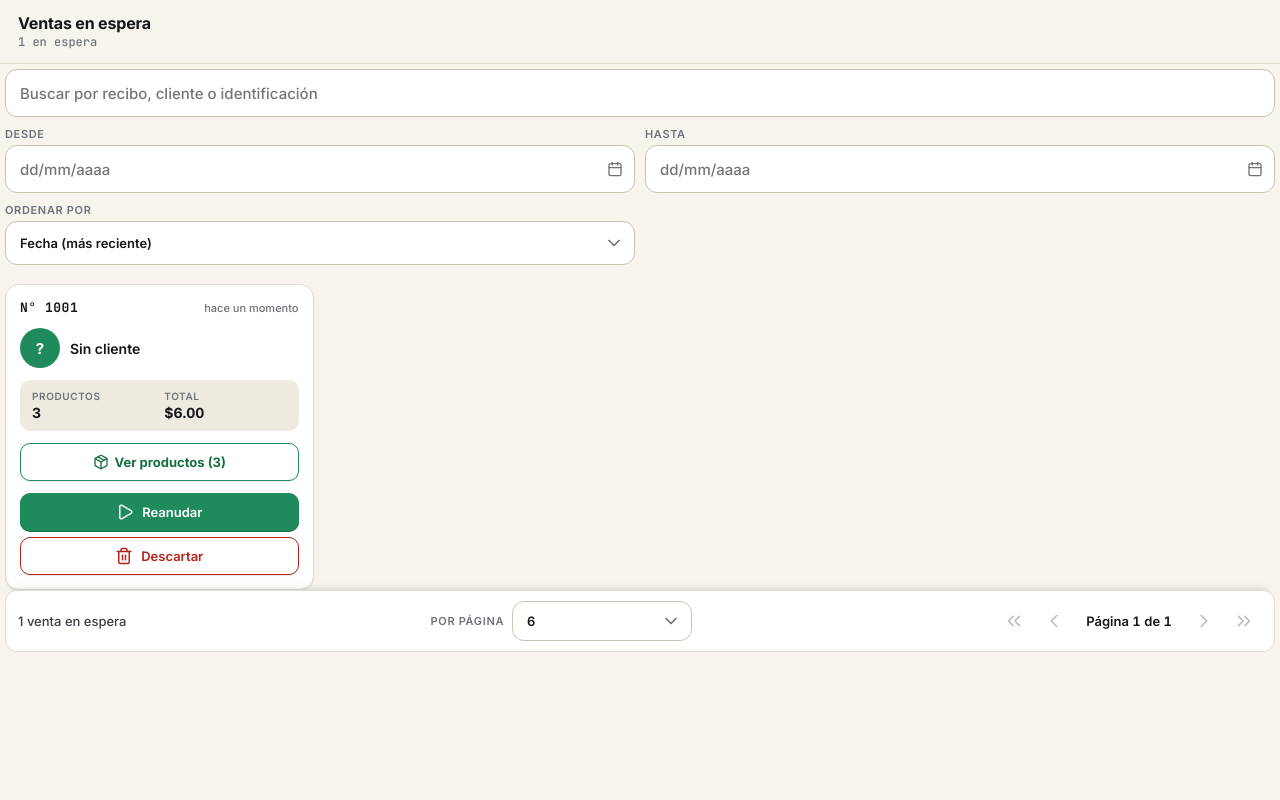
Test: StoredCartsScreen — paused-product PRE-confirm before resume › SOME paused + sale in progress → Continuar shows the existing resume guard (does not resume yet)
Click the button "Reanudar" at x=159, y=512, box left=20, top=493, right=298, bottom=531
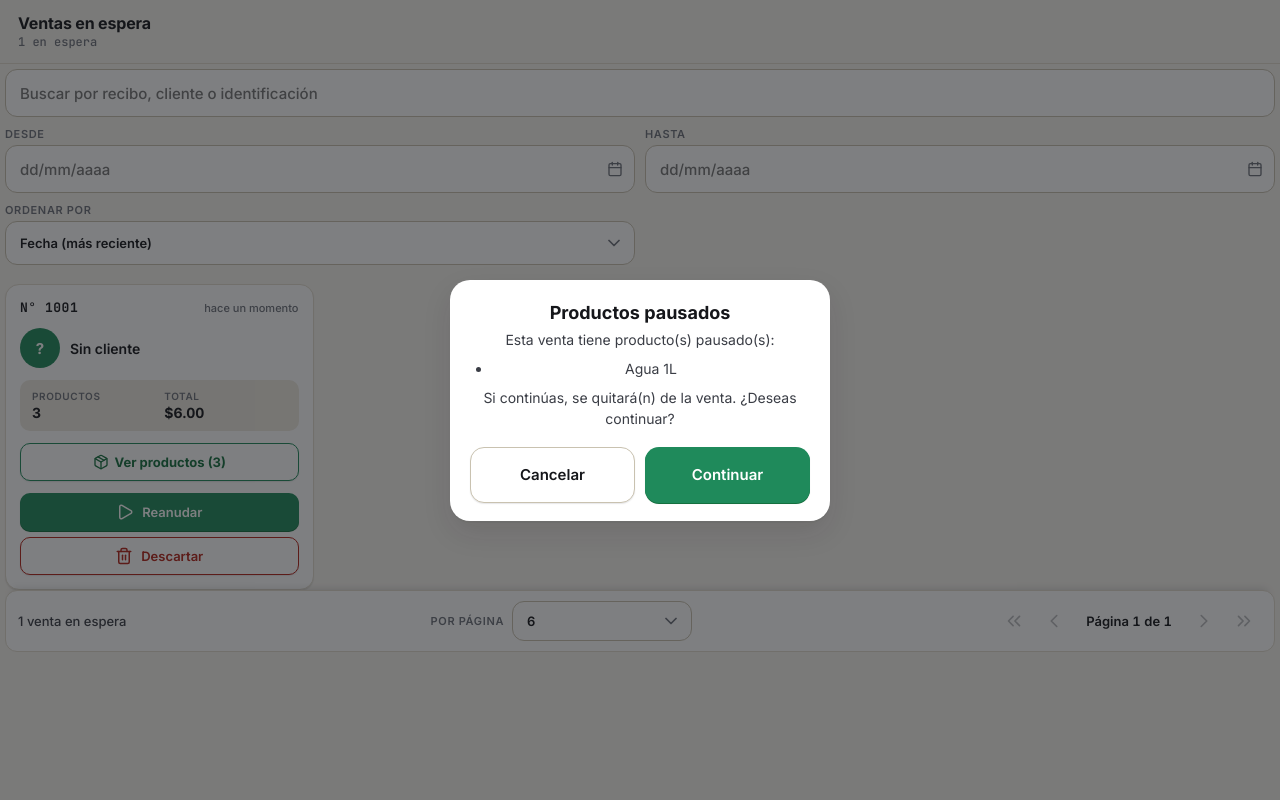
Expected: the text "Tienes una venta en curso" is not shown
Now the text "Productos pausados" is shown, box left=550, top=302, right=730, bottom=322
Click the button "Continuar" at x=728, y=474, box left=645, top=446, right=810, bottom=502
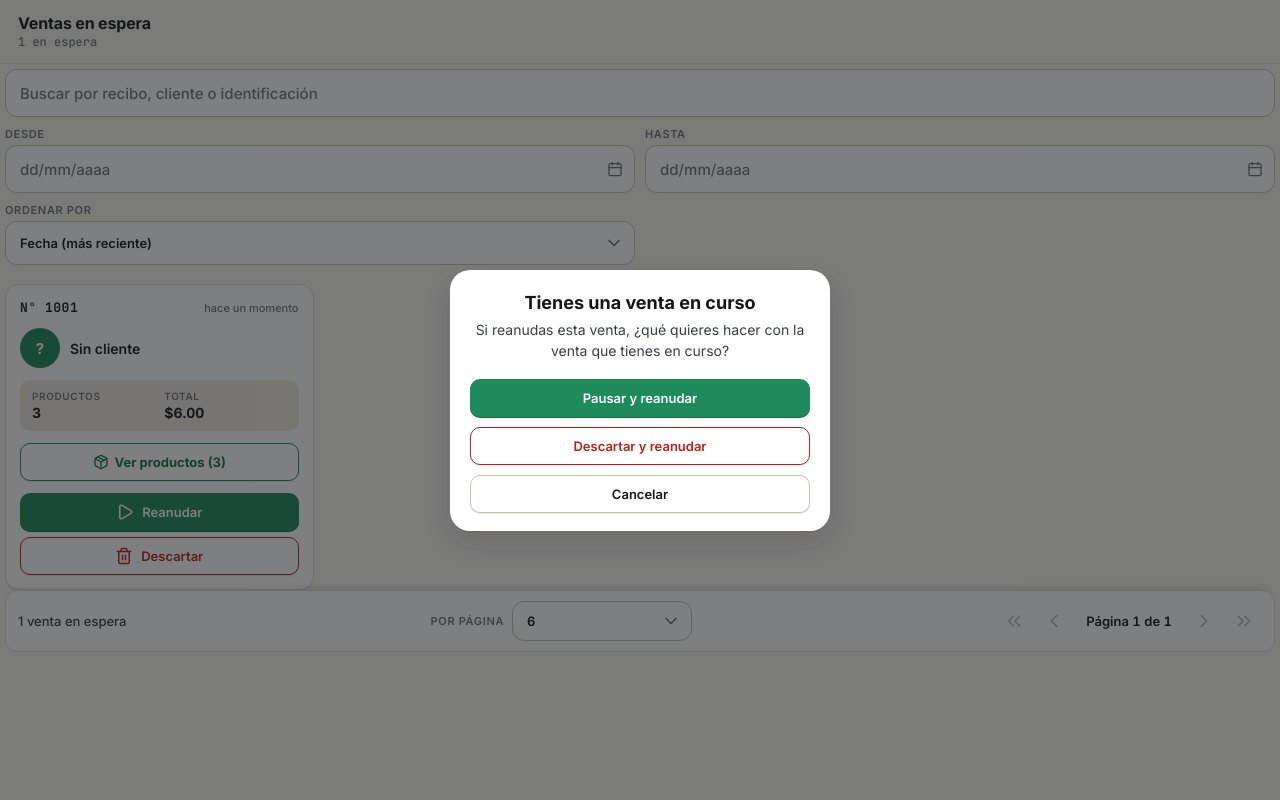
Now the text "Tienes una venta en curso" is shown, box left=524, top=292, right=756, bottom=312
